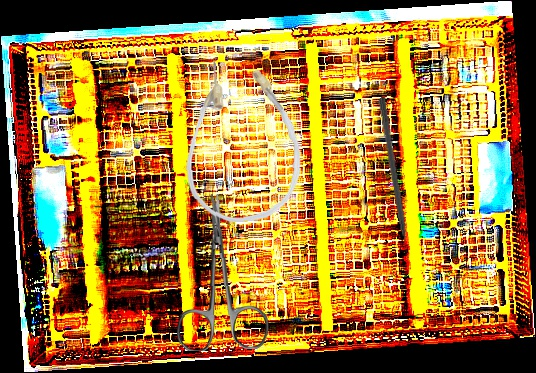Cannula: (182, 57, 304, 224)
Iris Scissors: (172, 192, 270, 352)
Pusher: (376, 96, 412, 263)
